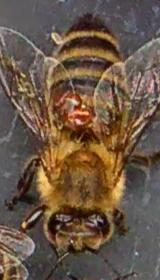varroa_mite: (65, 103, 94, 132)
